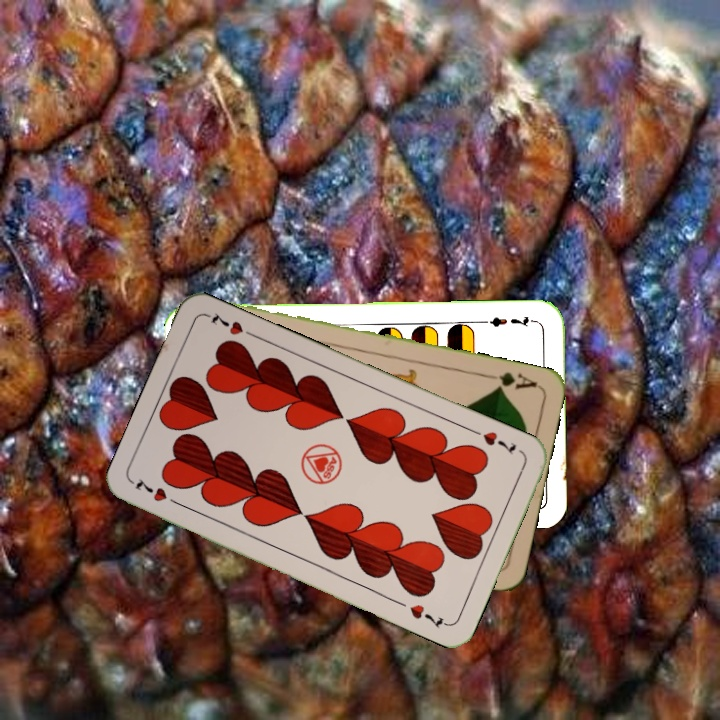E7: (479, 312, 538, 330)
GA: (481, 367, 540, 393)
H7: (131, 475, 185, 509), (468, 425, 519, 458)
